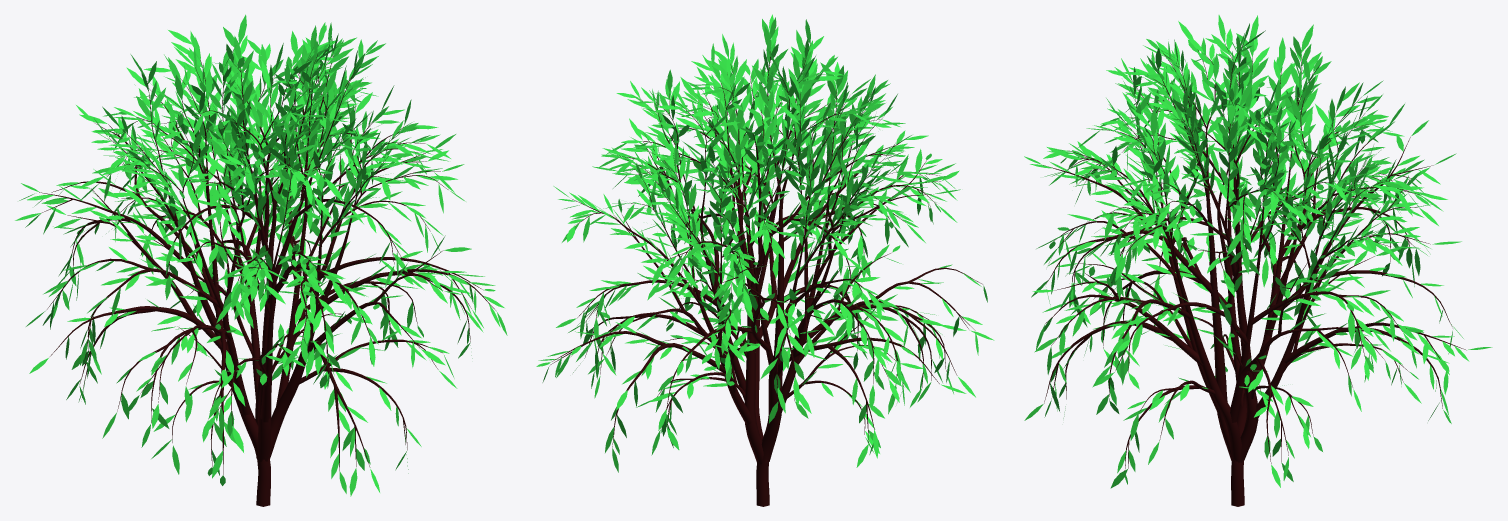
Rendered from 01tree.fbx.
The picture shows the model from 3 angles, left to right: view 1: azimuth 30°, elevation 25°; view 2: azimuth 150°, elevation 25°; view 3: azimuth 270°, elevation 25°; orthographic projection. The views are drawn at different scales.
Parts seen in each view (by area): view 1: leaves, tree; view 2: leaves, tree; view 3: leaves, tree.
Boxes of the visible parts, x1,y1,x2,y2 form: leaves: [15, 14, 507, 496]; tree: [39, 44, 495, 506]; leaves: [536, 14, 994, 472]; tree: [550, 45, 982, 506]; leaves: [1024, 15, 1492, 488]; tree: [1043, 44, 1465, 506].
Size of the model in its own units: 595 by 677 by 607.
